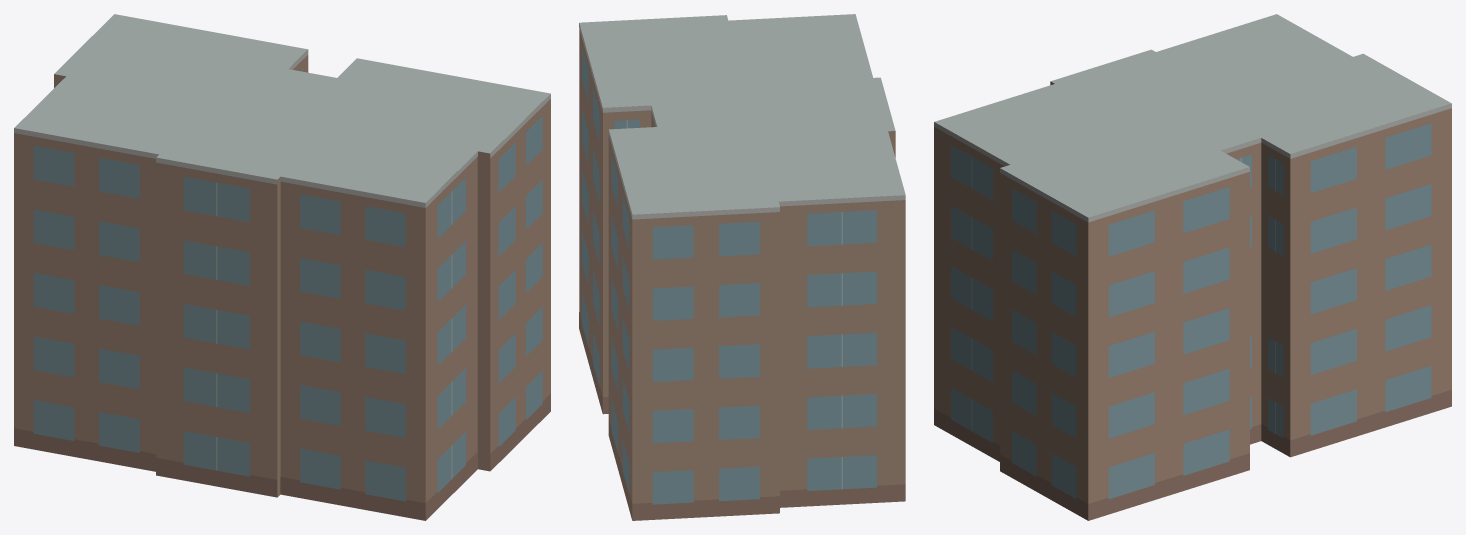
File: survey-upis-32628923.glb
3 renders of one model, left to right at view 1: azimuth 30°, elevation 25°; view 2: azimuth 150°, elevation 25°; view 3: azimuth 270°, elevation 25°, orthographic. The views are drawn at different scales.
Parts seen in each view (by area): view 1: survey-upis-32628923.tmp; view 2: survey-upis-32628923.tmp; view 3: survey-upis-32628923.tmp.
Part boxes in pixels (<box>): survey-upis-32628923.tmp: <box>14,14,550,520</box>; survey-upis-32628923.tmp: <box>579,14,905,520</box>; survey-upis-32628923.tmp: <box>934,14,1451,520</box>.
Size of the model in its own units: 22.44 by 15.56 by 24.09.
